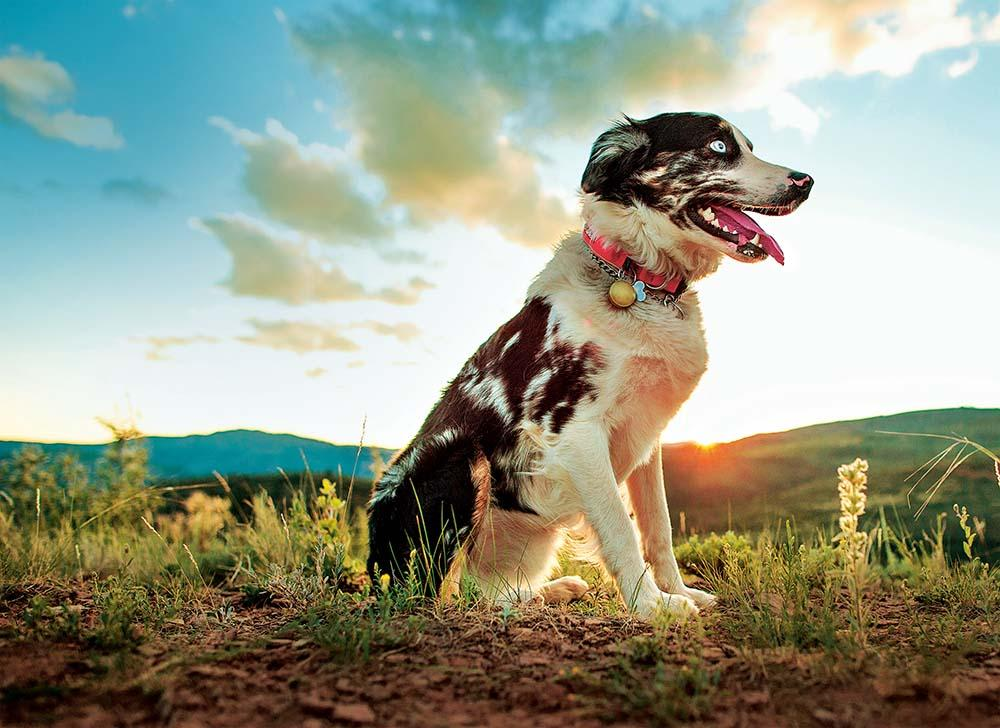animal: (280, 121, 878, 659)
